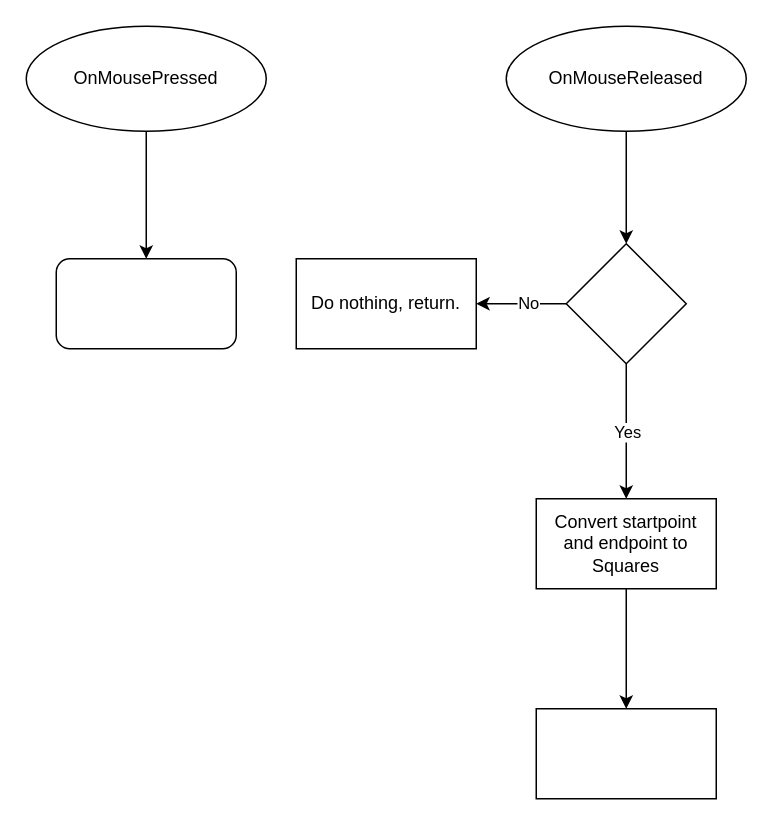
Some shapes in this 773 by 825 pixel diagram are drawn without their labels. The shapes that lost their labels are listed below. From the top down, each one's centre as x and y in pixels, then its label:
At pixel 145 303: "Set startpoint for later use.".
At pixel 625 303: "startPoint is Piece".
